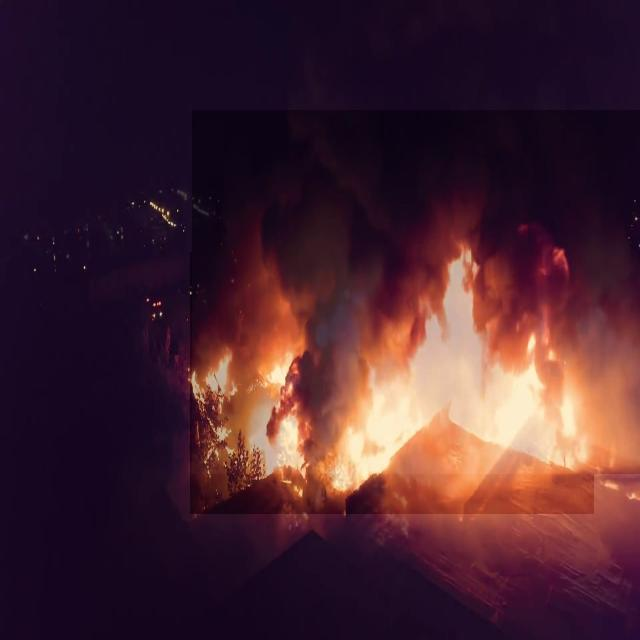Fire: (190, 252, 594, 514)
Smoke: (192, 110, 640, 474)
